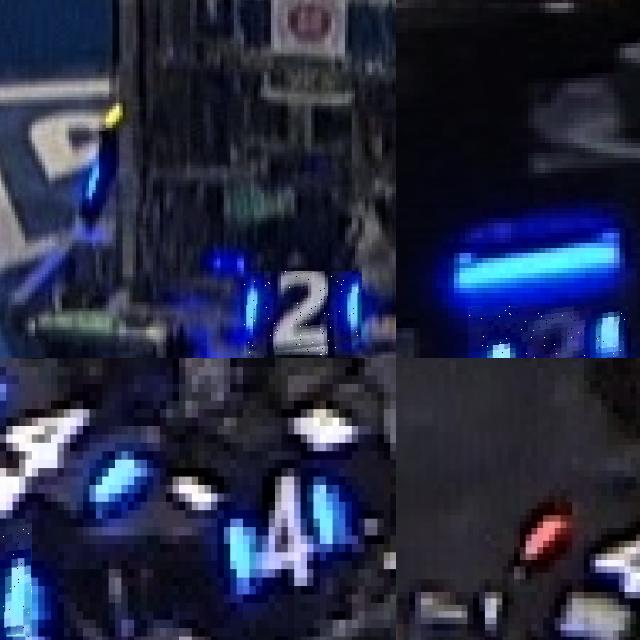B2: (244, 271, 362, 355), (468, 305, 628, 358)
B4: (218, 460, 346, 594), (0, 518, 32, 640)
R4: (514, 489, 640, 604)
